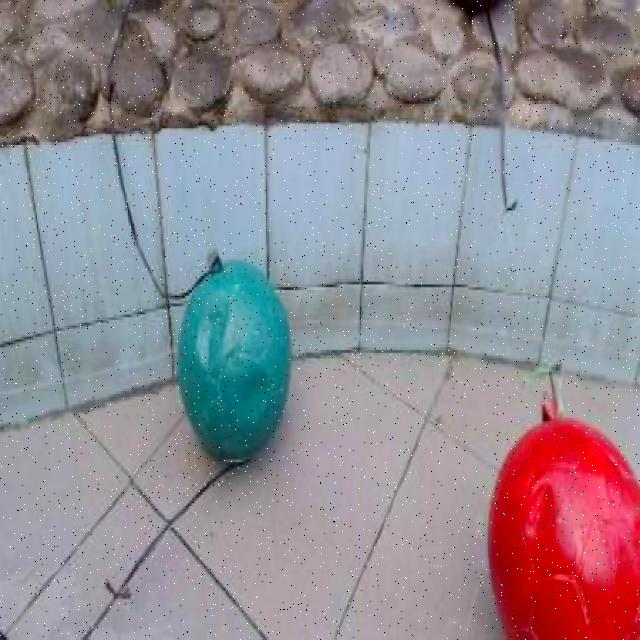buoy: (486, 414, 638, 636), (177, 259, 291, 463)
